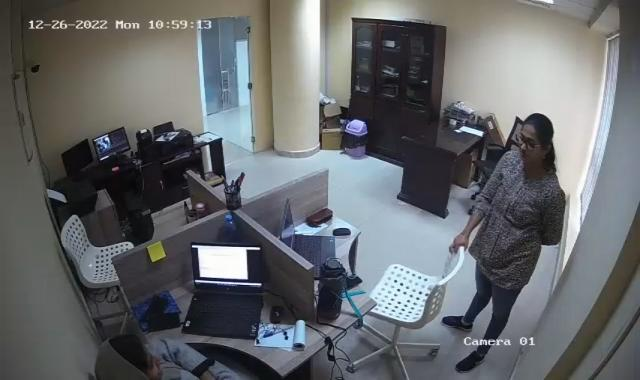no_hairnet: (98, 336, 164, 380), (518, 113, 555, 167)
